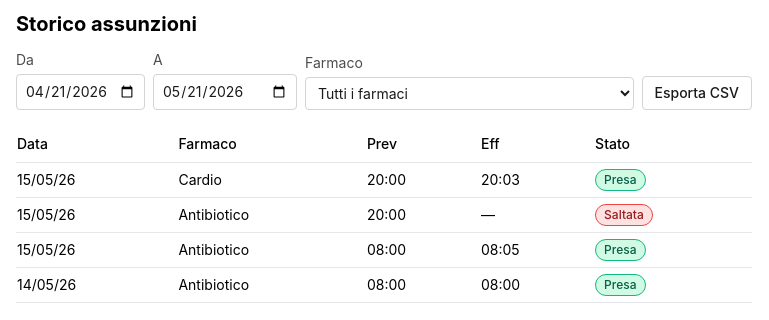
Scenario: CronologiaView (s.6.215 vista Log) › T-LOG.5: filtering by farmaco dropdown re-renders rows
Expected: the number of rows with test id "log-row" is 4, [16, 162, 752, 198]; [16, 198, 752, 232]; [16, 232, 752, 268]; [16, 268, 752, 302]
Select "Antibiotico" in the dropdown with test id "log-filter-farmaco" at (469, 94), box [305, 77, 634, 110]
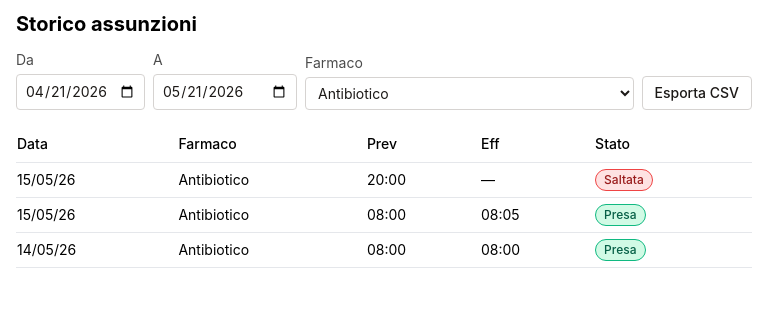
Expected: the cell "Antibiotico" next to "20:00" is shown, [178, 171, 249, 188]
Result: the number of rows with test id "log-row" is 3 at [16, 162, 752, 198]; [16, 198, 752, 232]; [16, 232, 752, 268]
